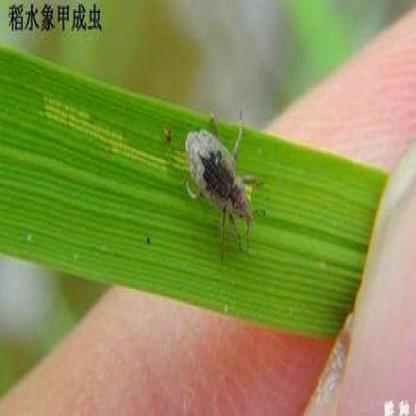rice-bug: (184, 120, 254, 248)
